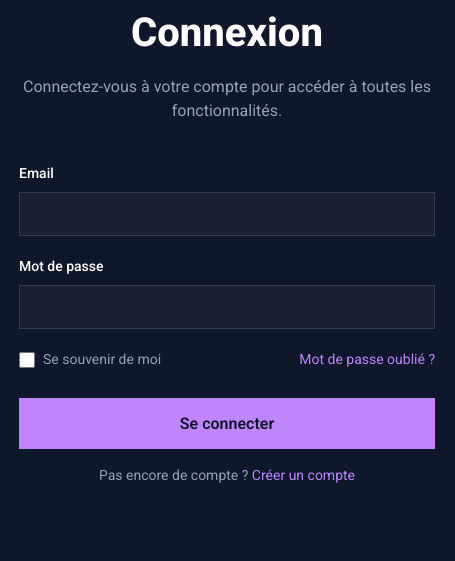
Test: Login › affiche une erreur en cas d'échec
The width and height of the screenshot is (455, 561).
Type "pending@weeb.local" into the field labelled "Email" at {"x": 227, "y": 214}, box [19,192,435,236]
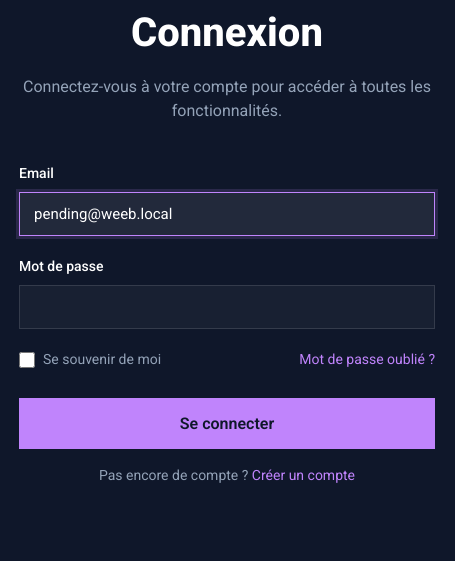
Type "password123" into the password field labelled "Mot de passe" at {"x": 227, "y": 307}, box [19,285,435,329]
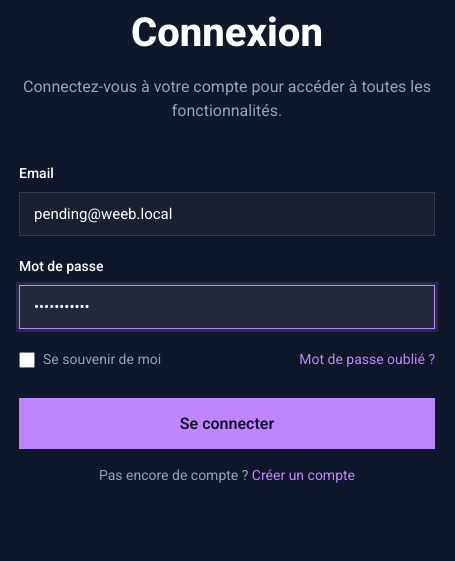
Click the button "Se connecter" at {"x": 227, "y": 424}, box [19,398,435,449]
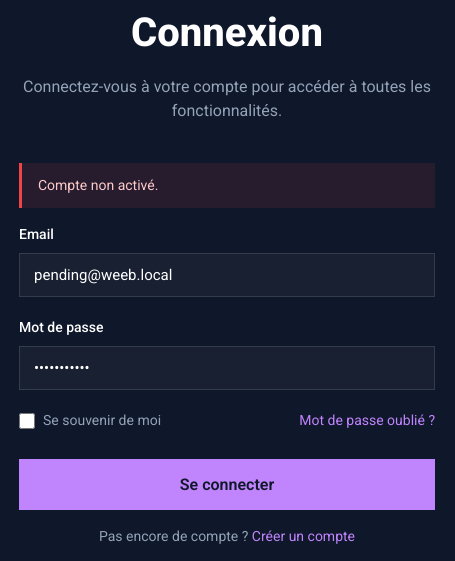
Expected: the text "Compte non activé." is shown, [19,163,435,208]
